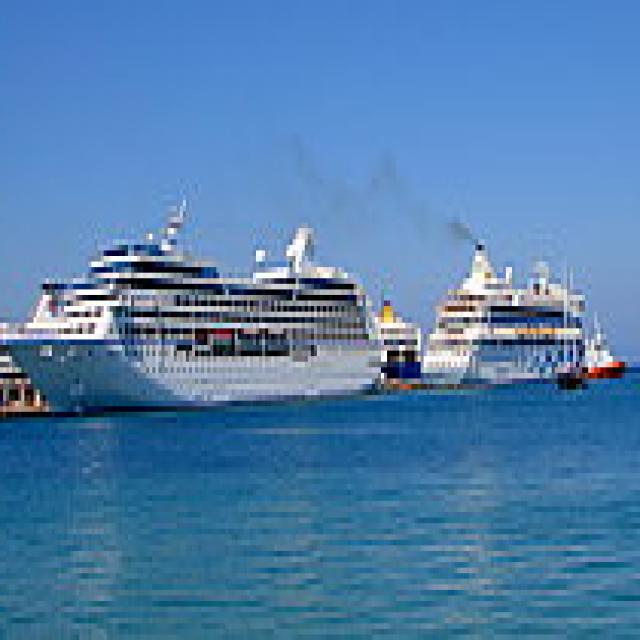Cruise: (3, 195, 390, 412), (424, 234, 594, 378), (378, 290, 427, 390)
